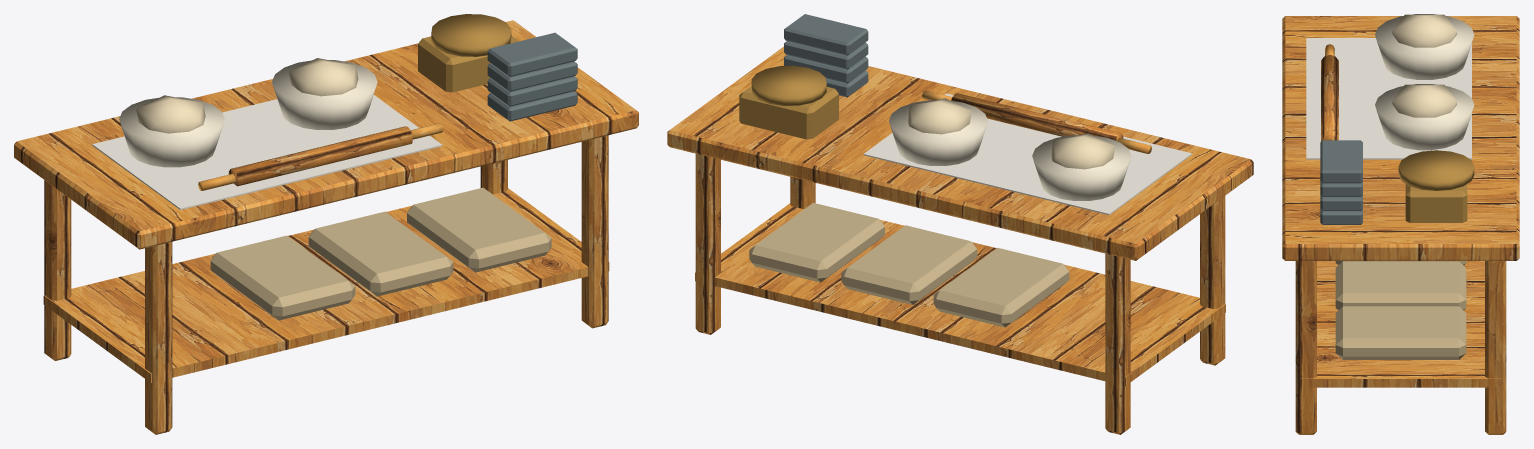
The picture shows the model from 3 angles, left to right: view 1: azimuth 30°, elevation 25°; view 2: azimuth 150°, elevation 25°; view 3: azimuth 270°, elevation 25°; orthographic projection. The views are drawn at different scales.
Visible parts, largest first — view 1: shop_oak, shop_sack, shop_flour, shop_cream, shop_steel, shop_brass, shop_dough; view 2: shop_oak, shop_sack, shop_flour, shop_cream, shop_brass, shop_steel, shop_dough; view 3: shop_oak, shop_sack, shop_flour, shop_cream, shop_brass, shop_steel, shop_dough.
Boxes of the visible parts, x1=… form: shop_oak: x1=14, y1=20, x2=638, y2=434; shop_sack: x1=210, y1=187, x2=551, y2=320; shop_flour: x1=92, y1=95, x2=442, y2=209; shop_cream: x1=119, y1=60, x2=377, y2=167; shop_steel: x1=487, y1=32, x2=577, y2=121; shop_brass: x1=418, y1=14, x2=518, y2=92; shop_dough: x1=136, y1=58, x2=358, y2=133; shop_oak: x1=667, y1=46, x2=1253, y2=434; shop_sack: x1=749, y1=202, x2=1069, y2=327; shop_flour: x1=863, y1=93, x2=1192, y2=215; shop_cream: x1=889, y1=100, x2=1131, y2=200; shop_brass: x1=739, y1=65, x2=838, y2=139; shop_steel: x1=784, y1=14, x2=868, y2=97; shop_dough: x1=907, y1=98, x2=1115, y2=169; shop_oak: x1=1282, y1=16, x2=1519, y2=434; shop_sack: x1=1335, y1=261, x2=1466, y2=359; shop_flour: x1=1306, y1=38, x2=1471, y2=159; shop_cream: x1=1375, y1=14, x2=1474, y2=150; shop_brass: x1=1398, y1=150, x2=1474, y2=222; shop_steel: x1=1320, y1=140, x2=1362, y2=224; shop_dough: x1=1392, y1=14, x2=1456, y2=117.
Size of the model in its own units: 2.3 by 1.19 by 1.
Materials: 7 (1 with a texture image).
